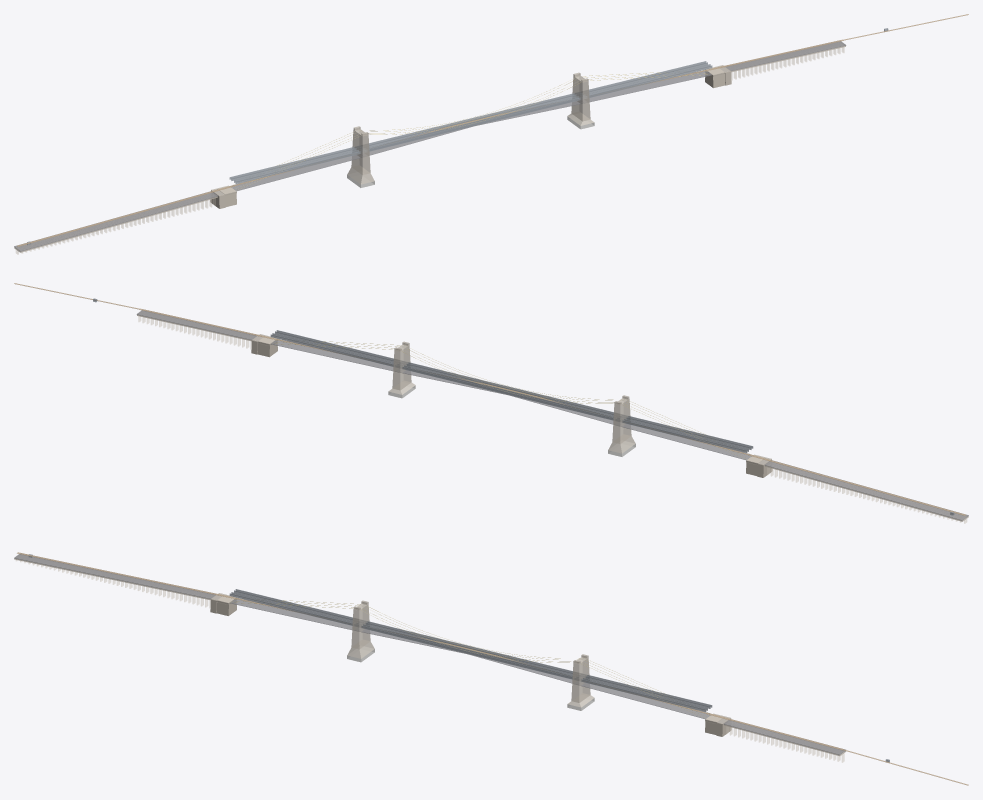
The model's file is control_skeleton.glb.
3 renders of one model, top to bottom at view 1: azimuth 30°, elevation 25°; view 2: azimuth 150°, elevation 25°; view 3: azimuth 330°, elevation 25°, orthographic.
Visible parts, largest first — view 1: deck_manhattan_approach, approach_girder_manhattan, approach_arcade_manhattan, deck_manhattan_side_span, deck_brooklyn_approach, deck_brooklyn_side_span, truss_outer_south_main_span, approach_arcade_brooklyn, approach_girder_brooklyn, tower_manhattan_shaft, tower_brooklyn_shaft, truss_inner_south_main_span (+2 smaller); view 2: deck_manhattan_approach, approach_girder_manhattan, approach_arcade_manhattan, deck_manhattan_side_span, deck_brooklyn_approach, deck_brooklyn_side_span, truss_outer_north_main_span, approach_arcade_brooklyn, approach_girder_brooklyn, tower_manhattan_shaft, tower_brooklyn_shaft, truss_inner_north_main_span (+2 smaller); view 3: deck_manhattan_approach, approach_girder_manhattan, deck_brooklyn_approach, approach_arcade_manhattan, deck_brooklyn_side_span, deck_manhattan_side_span, approach_girder_brooklyn, approach_arcade_brooklyn, truss_outer_south_main_span, tower_manhattan_shaft, tower_brooklyn_shaft, truss_inner_south_main_span (+2 smaller).
Part boxes in pixels (x1,y1,x2,y2): deck_manhattan_approach: (14,191,217,251); approach_girder_manhattan: (14,193,217,252); approach_arcade_manhattan: (15,198,215,254); deck_manhattan_side_span: (231,154,363,191); deck_brooklyn_approach: (726,41,846,71); deck_brooklyn_side_span: (581,70,712,102); truss_outer_south_main_span: (364,97,583,152); approach_arcade_brooklyn: (731,47,844,80); approach_girder_brooklyn: (727,42,845,72); tower_manhattan_shaft: (351,128,370,174); tower_brooklyn_shaft: (571,75,590,121); truss_inner_south_main_span: (362,95,581,150); deck_manhattan_approach: (765,460,968,520); approach_girder_manhattan: (765,462,968,521); approach_arcade_manhattan: (767,467,967,523); deck_manhattan_side_span: (619,423,751,460); deck_brooklyn_approach: (136,310,256,340); deck_brooklyn_side_span: (270,339,401,371); truss_outer_north_main_span: (399,366,618,421); approach_arcade_brooklyn: (138,316,251,349); approach_girder_brooklyn: (137,311,255,341); tower_manhattan_shaft: (612,397,631,443); tower_brooklyn_shaft: (392,344,411,390); truss_inner_north_main_span: (401,364,620,419); deck_manhattan_approach: (14,553,215,599); approach_girder_manhattan: (14,555,214,600); deck_brooklyn_approach: (724,720,845,754); approach_arcade_manhattan: (15,560,210,608); deck_brooklyn_side_span: (578,682,710,719); deck_manhattan_side_span: (229,598,360,630); approach_girder_brooklyn: (724,720,845,756); approach_arcade_brooklyn: (726,726,844,762); truss_outer_south_main_span: (358,625,577,680); tower_manhattan_shaft: (351,603,370,649); tower_brooklyn_shaft: (571,656,590,702); truss_inner_south_main_span: (360,623,579,678).
Bounding box in the file's own units: 2104 × 108 × 52.43.
